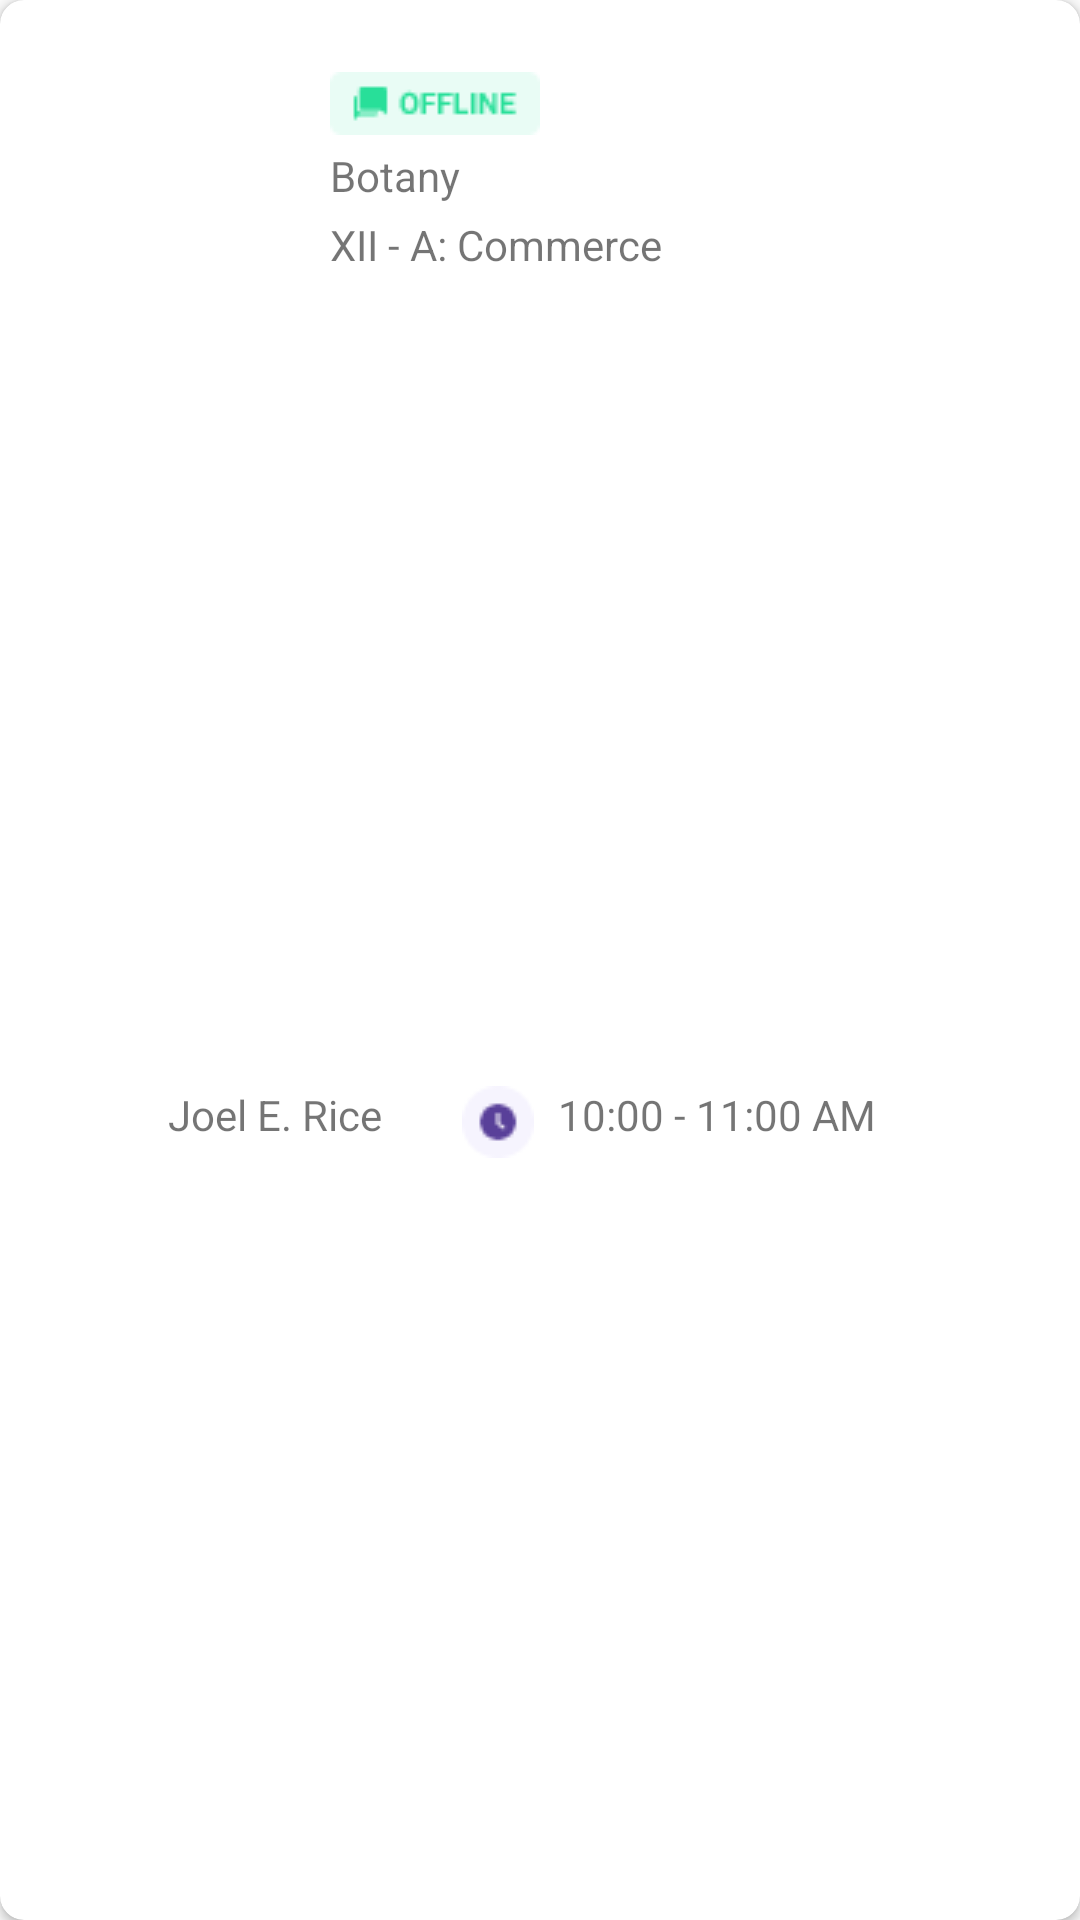

Where to tap for icons on this 1080x1920 app screen, as (x,y):
time: (498,1122)
